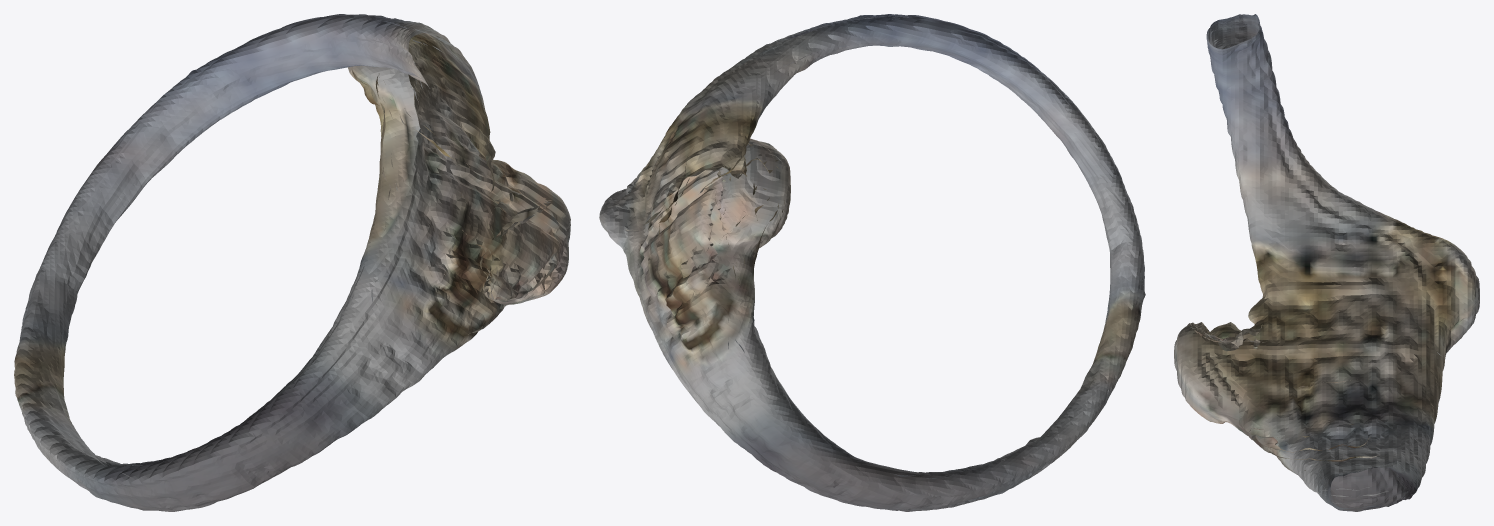
The picture shows the model from 3 angles, left to right: view 1: azimuth 30°, elevation 25°; view 2: azimuth 150°, elevation 25°; view 3: azimuth 270°, elevation 25°; orthographic projection. The views are drawn at different scales.
Parts seen in each view (by area): view 1: world; view 2: world; view 3: world.
Boxes of the visible parts, box(x1,y1,x2,y2) form: world: box(14, 14, 570, 511); world: box(599, 14, 1145, 511); world: box(1174, 14, 1479, 511).
Bounding box in the file's own units: 0.8929 × 0.8298 × 0.5024.
